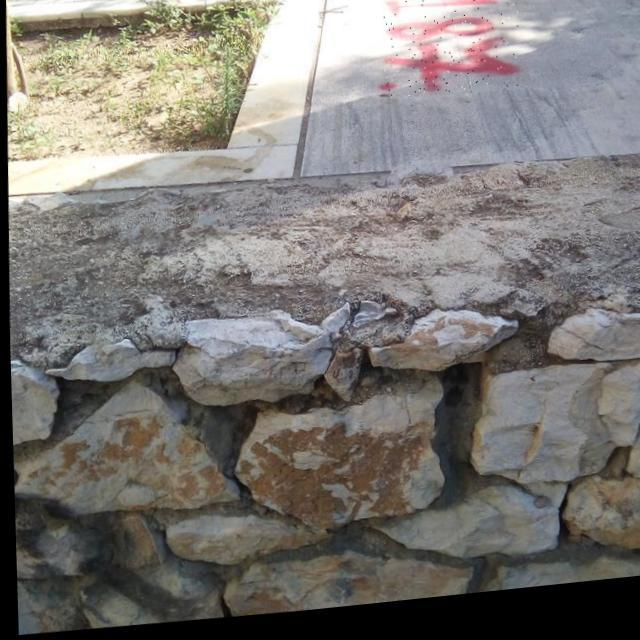-: (379, 0, 519, 108)
